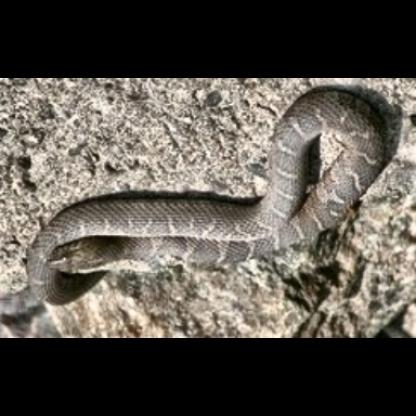Snake: (11, 108, 416, 322)
